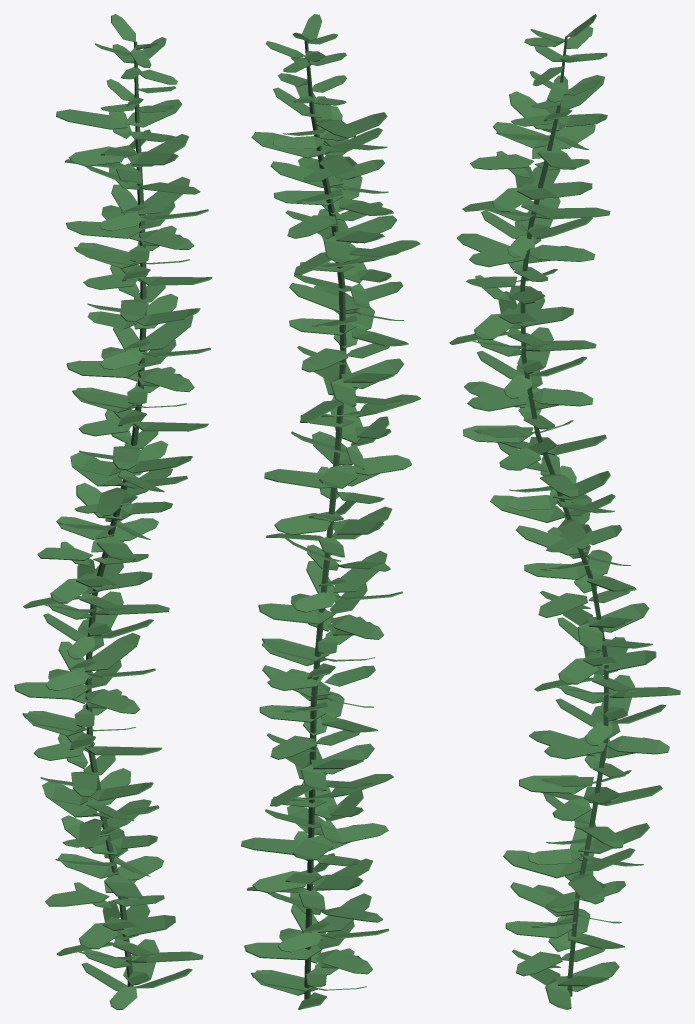
File: Seaweed_014.glb
The picture shows the model from 3 angles, left to right: view 1: azimuth 30°, elevation 25°; view 2: azimuth 150°, elevation 25°; view 3: azimuth 270°, elevation 25°; orthographic projection.
Parts seen in each view (by area): view 1: Seaweed_014; view 2: Seaweed_014; view 3: Seaweed_014.
Part boxes in pixels (left/top/right/bottom): Seaweed_014: left=14, top=14, right=212, bottom=1009; Seaweed_014: left=241, top=14, right=420, bottom=1009; Seaweed_014: left=449, top=14, right=680, bottom=1009.
Bounding box in the file's own units: 1.29 × 8.05 × 1.73.
1 material, 1 textured.
